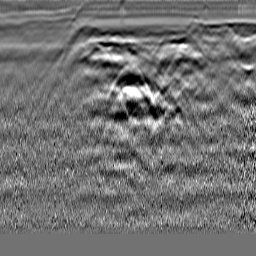cavity: (114, 65, 144, 87)
